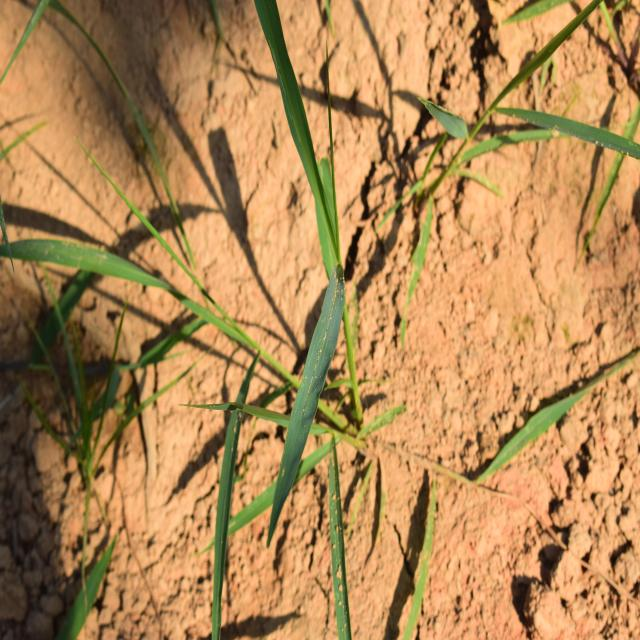green_foxtail: (13, 210, 278, 601), (248, 18, 368, 504)
